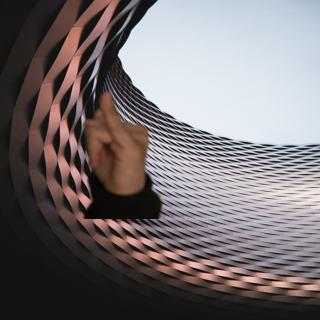HAVE: (74, 89, 165, 194)
